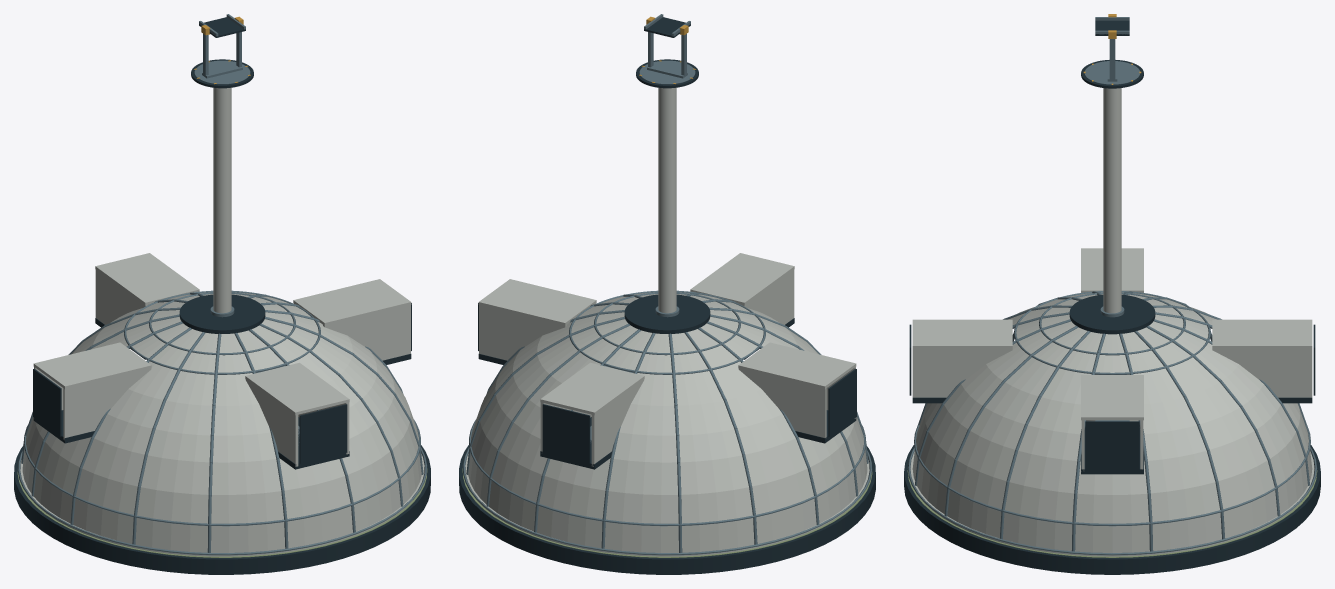
Rendered from logistics_d0_lod0.glb.
The picture shows the model from 3 angles, left to right: view 1: azimuth 30°, elevation 25°; view 2: azimuth 150°, elevation 25°; view 3: azimuth 270°, elevation 25°; orthographic projection.
Parts seen in each view (by area): view 1: SHELL, BODY, PORT_CAP_N, PORT_CAP_W, FORK, CRADLE; view 2: SHELL, BODY, PORT_CAP_S, PORT_CAP_W, FORK, CRADLE; view 3: SHELL, BODY, PORT_CAP_E, CRADLE.
Boxes of the visible parts, x1=… form: SHELL: x1=22, y1=292, x2=421, y2=552; BODY: x1=14, y1=59, x2=430, y2=574; PORT_CAP_N: x1=299, y1=404, x2=347, y2=463; PORT_CAP_W: x1=33, y1=368, x2=61, y2=436; FORK: x1=201, y1=16, x2=243, y2=78; CRADLE: x1=199, y1=14, x2=245, y2=37; SHELL: x1=468, y1=292, x2=867, y2=552; BODY: x1=459, y1=59, x2=875, y2=574; PORT_CAP_S: x1=542, y1=404, x2=590, y2=463; PORT_CAP_W: x1=828, y1=368, x2=856, y2=436; FORK: x1=646, y1=16, x2=688, y2=78; CRADLE: x1=644, y1=14, x2=690, y2=37; SHELL: x1=912, y1=292, x2=1312, y2=552; BODY: x1=904, y1=60, x2=1320, y2=574; PORT_CAP_E: x1=1085, y1=421, x2=1139, y2=469; CRADLE: x1=1095, y1=17, x2=1129, y2=35.
Size of the model in its own units: 29.2 by 35.85 by 29.2.
